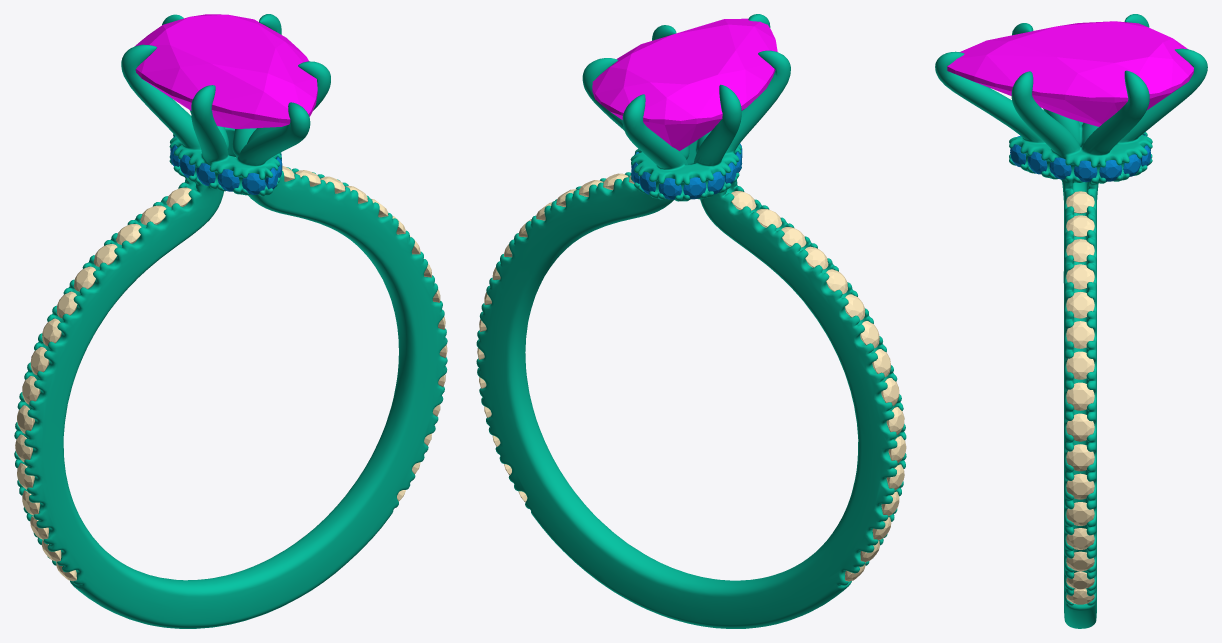
Rendered from BE1D305_PE_200ct_RENDER.glb.
The picture shows the model from 3 angles, left to right: view 1: azimuth 30°, elevation 25°; view 2: azimuth 150°, elevation 25°; view 3: azimuth 270°, elevation 25°; orthographic projection.
Visible parts, largest first — view 1: Metal 01, CS_Diamond_Pear; view 2: Metal 01, CS_Diamond_Pear; view 3: Metal 01, CS_Diamond_Pear, Diamond_Round_Gem_SH.023, Diamond_Round_Gem_SH.022, Diamond_Round_Gem_SH.024, Diamond_Round_Gem_SH.021, Diamond_Round_Gem_SH.025, Diamond_Round_Gem_SH.020, Diamond_Round_Gem_SH.026, Diamond_Round_Gem_SH.019, Diamond_Round_Gem_SH.027, Diamond_Round_Gem_SH.018 (+4 smaller).
Part boxes in pixels (x1,y1,x2,y2): Metal 01: [14, 14, 447, 628]; CS_Diamond_Pear: [134, 14, 317, 128]; Metal 01: [476, 14, 906, 628]; CS_Diamond_Pear: [592, 18, 777, 150]; Metal 01: [935, 14, 1207, 628]; CS_Diamond_Pear: [947, 21, 1193, 126]; Diamond_Round_Gem_SH.023: [1066, 382, 1094, 410]; Diamond_Round_Gem_SH.022: [1066, 351, 1094, 379]; Diamond_Round_Gem_SH.024: [1066, 413, 1094, 441]; Diamond_Round_Gem_SH.021: [1066, 321, 1094, 348]; Diamond_Round_Gem_SH.025: [1066, 444, 1094, 471]; Diamond_Round_Gem_SH.020: [1066, 292, 1094, 318]; Diamond_Round_Gem_SH.026: [1066, 473, 1094, 499]; Diamond_Round_Gem_SH.019: [1066, 264, 1094, 289]; Diamond_Round_Gem_SH.027: [1066, 502, 1094, 525]; Diamond_Round_Gem_SH.018: [1066, 239, 1094, 262].
Bounding box in the file's own units: 20.45 × 26.44 × 11.57.
